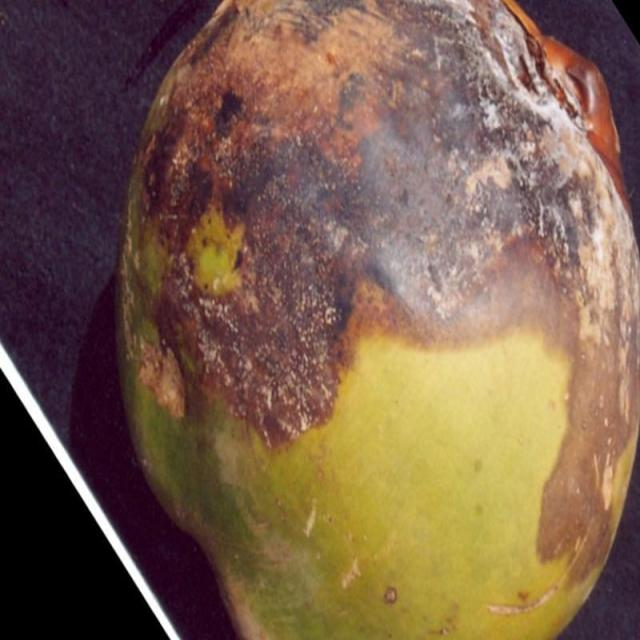damaged: (106, 0, 639, 639)
